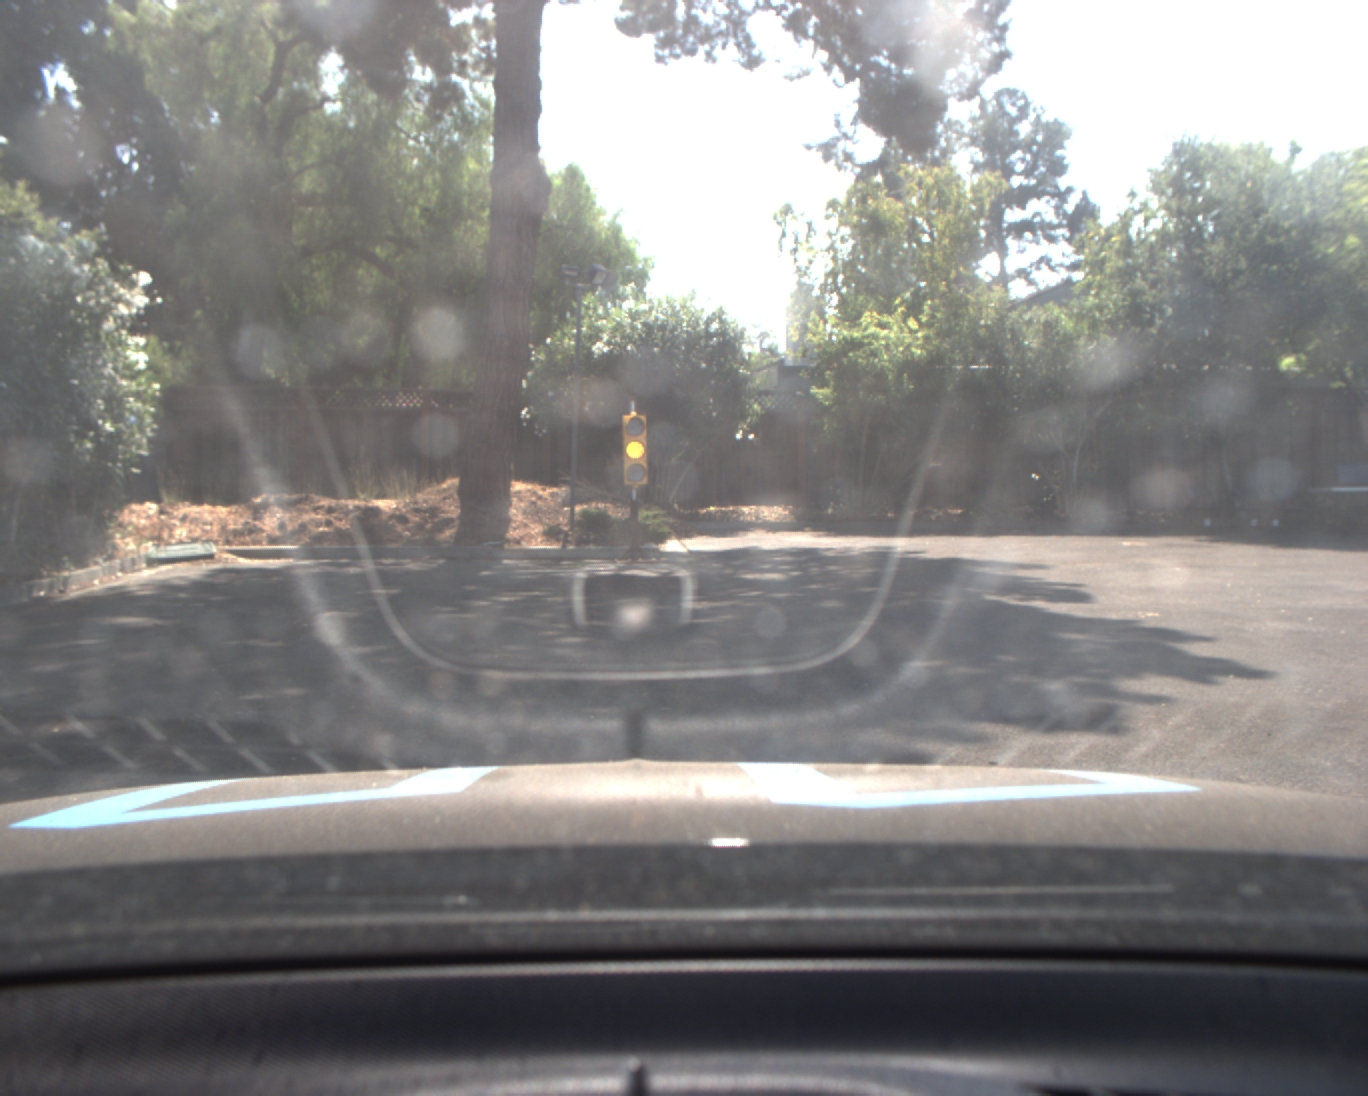yellow: (623, 413, 652, 489)
